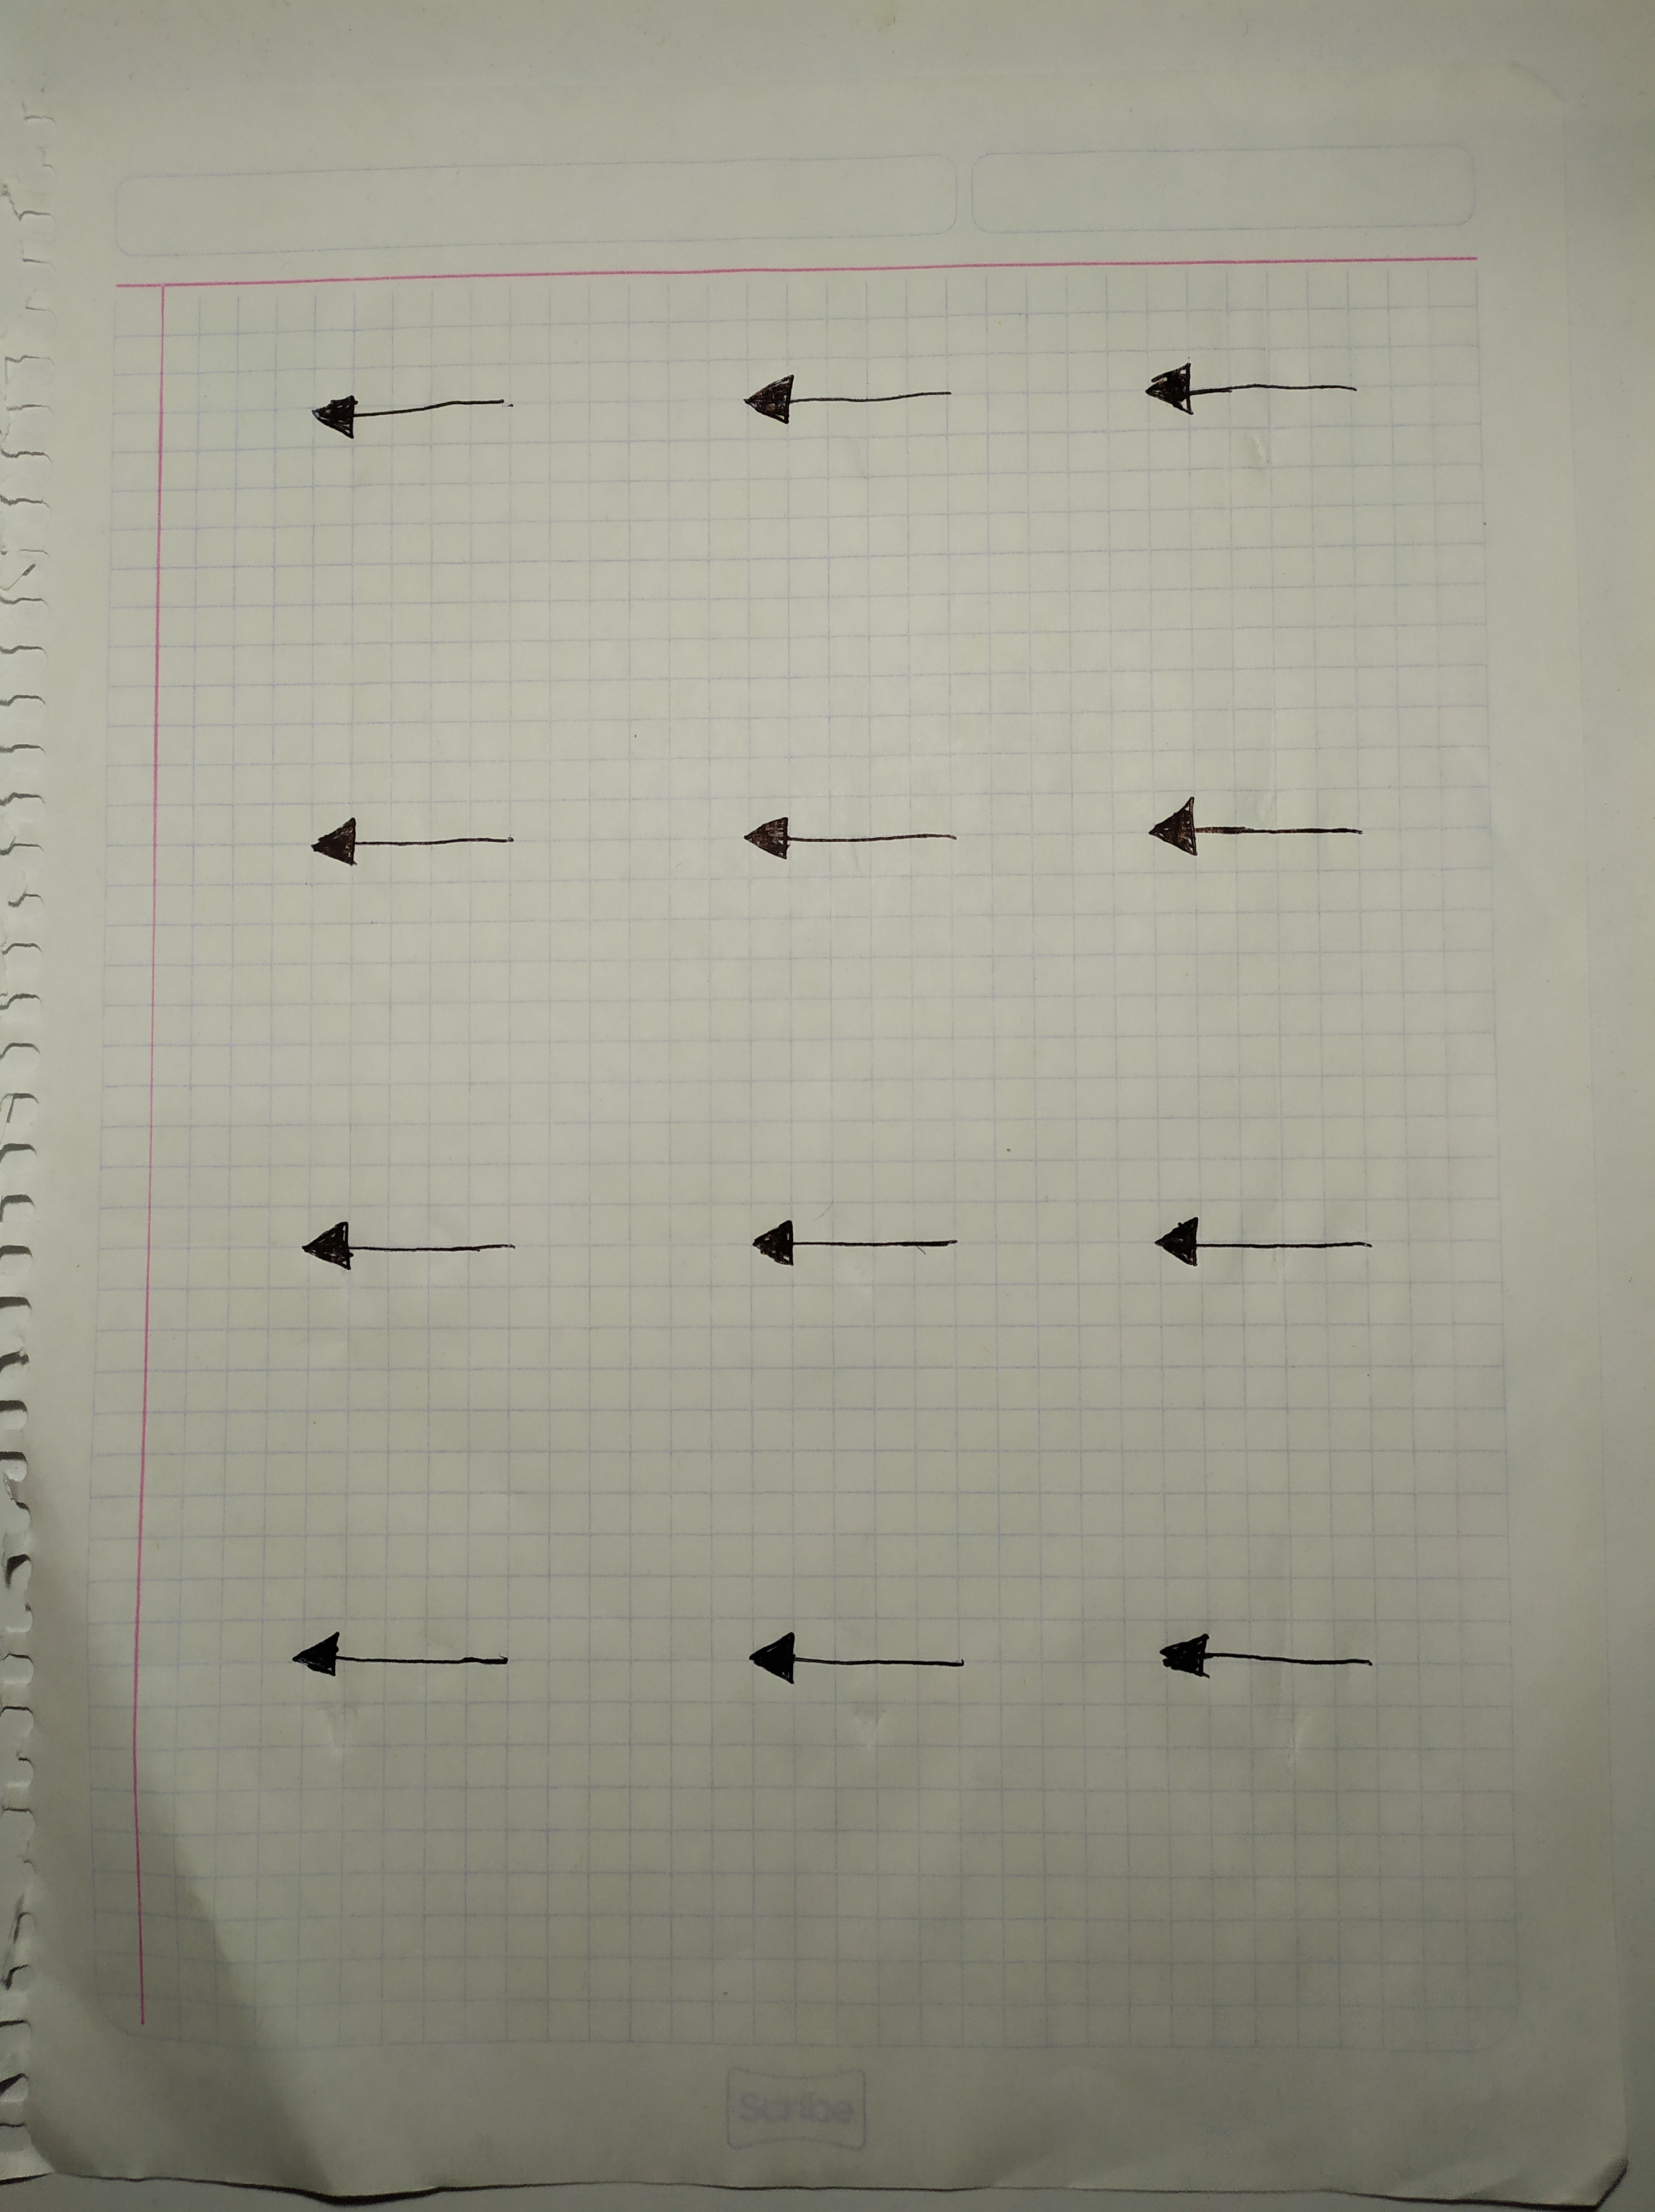arrow_line_left: (285, 356, 567, 460), (715, 346, 984, 445), (268, 1611, 562, 1698), (1118, 789, 1394, 878), (716, 1619, 1012, 1701), (716, 794, 989, 879), (1120, 346, 1386, 429), (1139, 1625, 1396, 1710), (271, 1209, 551, 1288), (1128, 1204, 1394, 1282), (720, 1208, 996, 1282), (289, 806, 528, 878)
